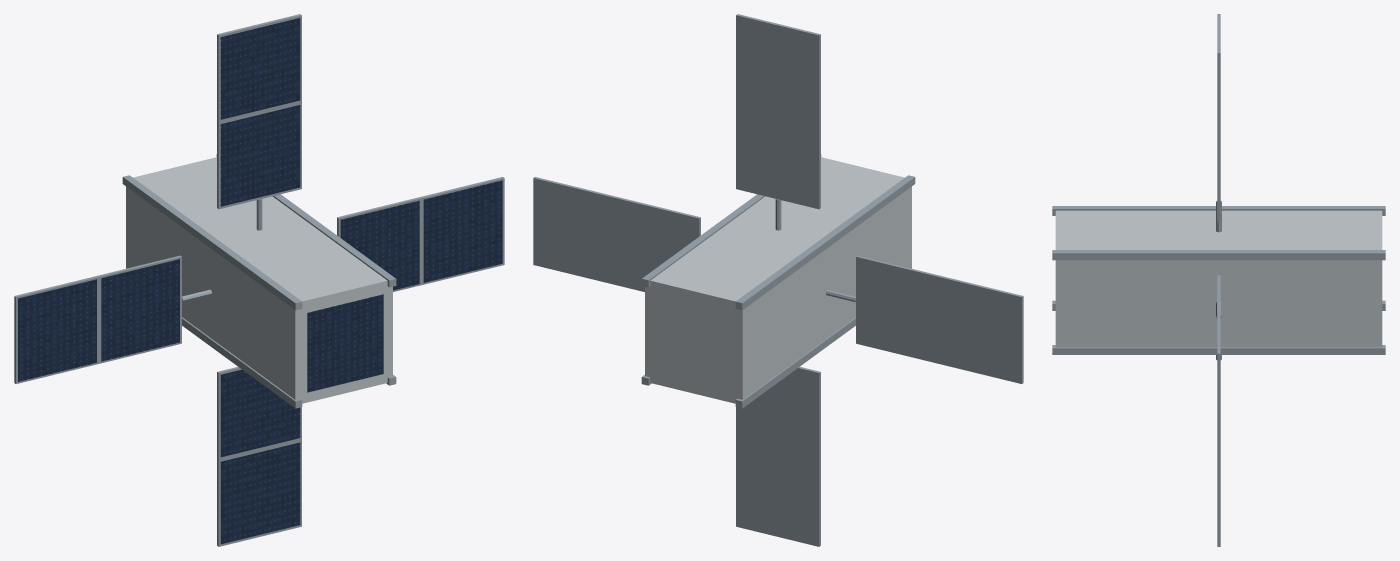
Rendered from ref-cubesat-3u-37245.glb.
3 views of the same model, side by side, from view 1: azimuth 30°, elevation 25°; view 2: azimuth 150°, elevation 25°; view 3: azimuth 270°, elevation 25° (orthographic). The views are drawn at different scales.
Parts seen in each view (by area): view 1: Photovoltaic laminates (×8), Spacecraft body, Array frame (×8), Body-mounted cells, Dispenser rail (×3); view 2: Array frame (×8), Spacecraft body, Dispenser rail (×3); view 3: Spacecraft body, Dispenser rail (×3), Array frame (×2).
Part boxes in pixels (<box>): Photovoltaic laminates (×8): <box>18,18,502,544</box>; Spacecraft body: <box>126,157,392,403</box>; Array frame (×8): <box>14,14,504,546</box>; Body-mounted cells: <box>307,294,383,392</box>; Dispenser rail (×3): <box>122,154,396,408</box>; Array frame (×8): <box>533,14,1023,546</box>; Spacecraft body: <box>645,157,911,403</box>; Dispenser rail (×3): <box>641,154,915,408</box>; Spacecraft body: <box>1055,210,1382,347</box>; Dispenser rail (×3): <box>1052,206,1385,354</box>; Array frame (×2): <box>1217,14,1220,437</box>.
Bounding box in the file's own units: 0.5 × 0.5 × 0.306.
3 materials, 1 textured.
